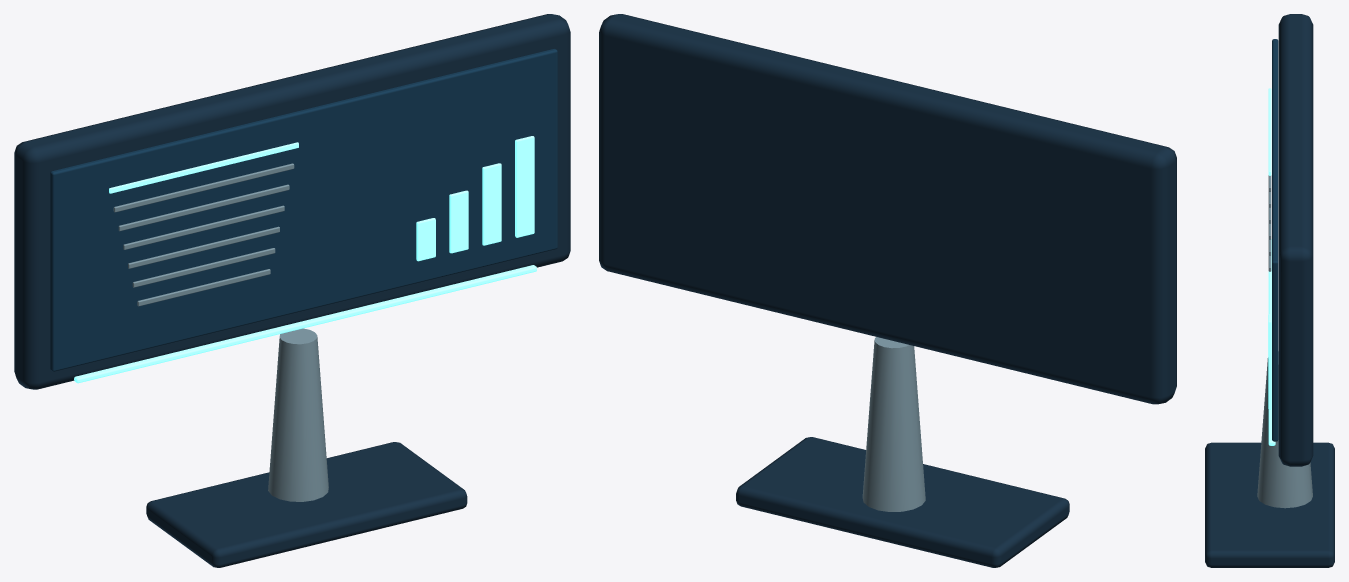
File: computerscreen.glb
3 renders of one model, left to right at view 1: azimuth 30°, elevation 25°; view 2: azimuth 150°, elevation 25°; view 3: azimuth 270°, elevation 25°, orthographic. The views are drawn at different scales.
Parts seen in each view (by area): view 1: atelier-cyber-computerscreen; view 2: atelier-cyber-computerscreen; view 3: atelier-cyber-computerscreen.
Part boxes in pixels (<box>): atelier-cyber-computerscreen: <box>14,14,570,567</box>; atelier-cyber-computerscreen: <box>599,14,1176,567</box>; atelier-cyber-computerscreen: <box>1205,14,1334,567</box>.
Bounding box in the file's own units: 1.35 × 1 × 0.3069.
